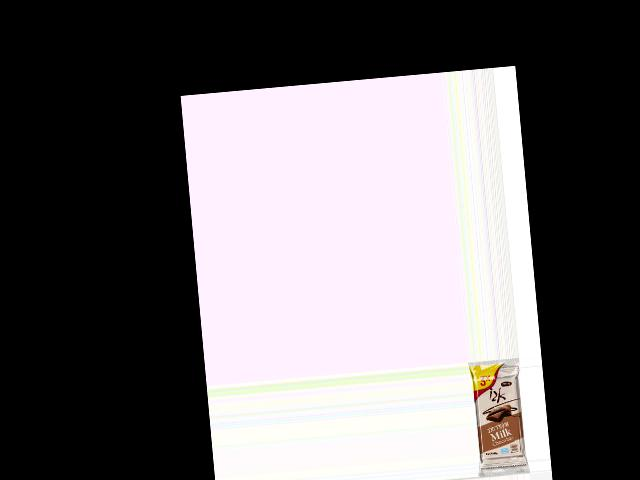chocolate: (468, 357, 529, 467)
